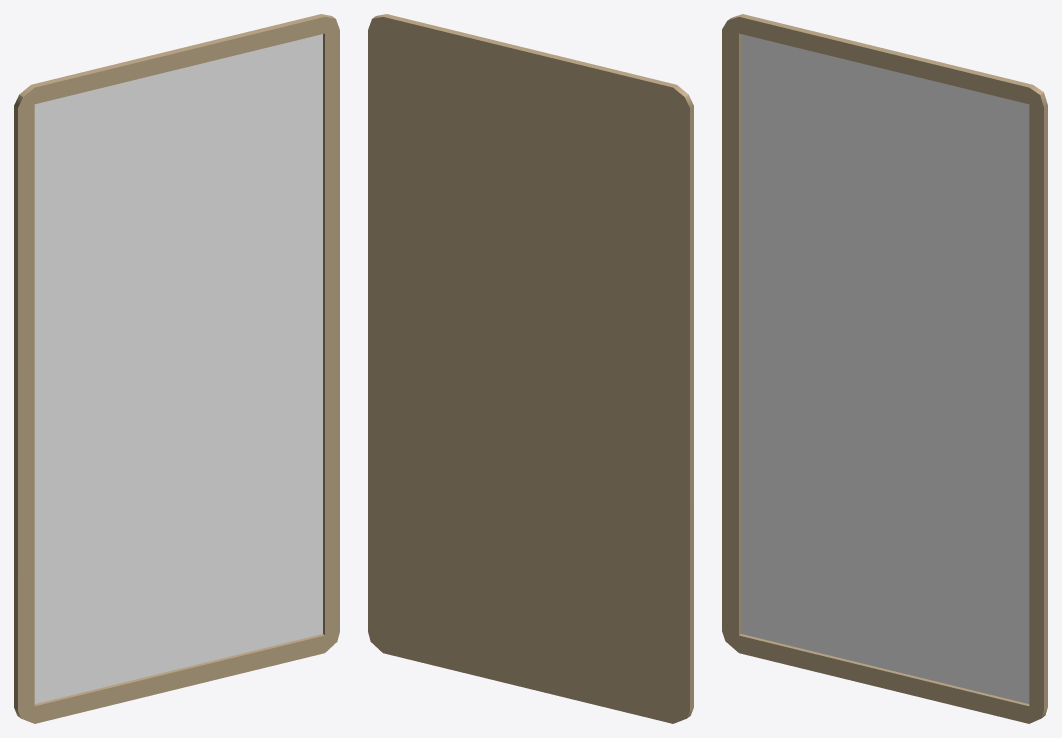
File: mirror.glb
3 renders of one model, left to right at view 1: azimuth 30°, elevation 25°; view 2: azimuth 150°, elevation 25°; view 3: azimuth 330°, elevation 25°, orthographic.
Parts seen in each view (by area): view 1: pCube1; view 2: pCube1; view 3: pCube1.
Part boxes in pixels (bbox=[...]): pCube1: bbox=[14, 14, 339, 723]; pCube1: bbox=[368, 14, 693, 723]; pCube1: bbox=[722, 14, 1047, 723].
Bounding box in the file's own units: 0.0385 × 0.0727 × 0.000791.
